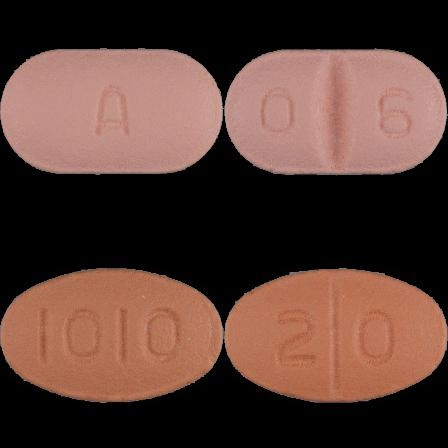67046-112: (0, 0, 224, 224)
